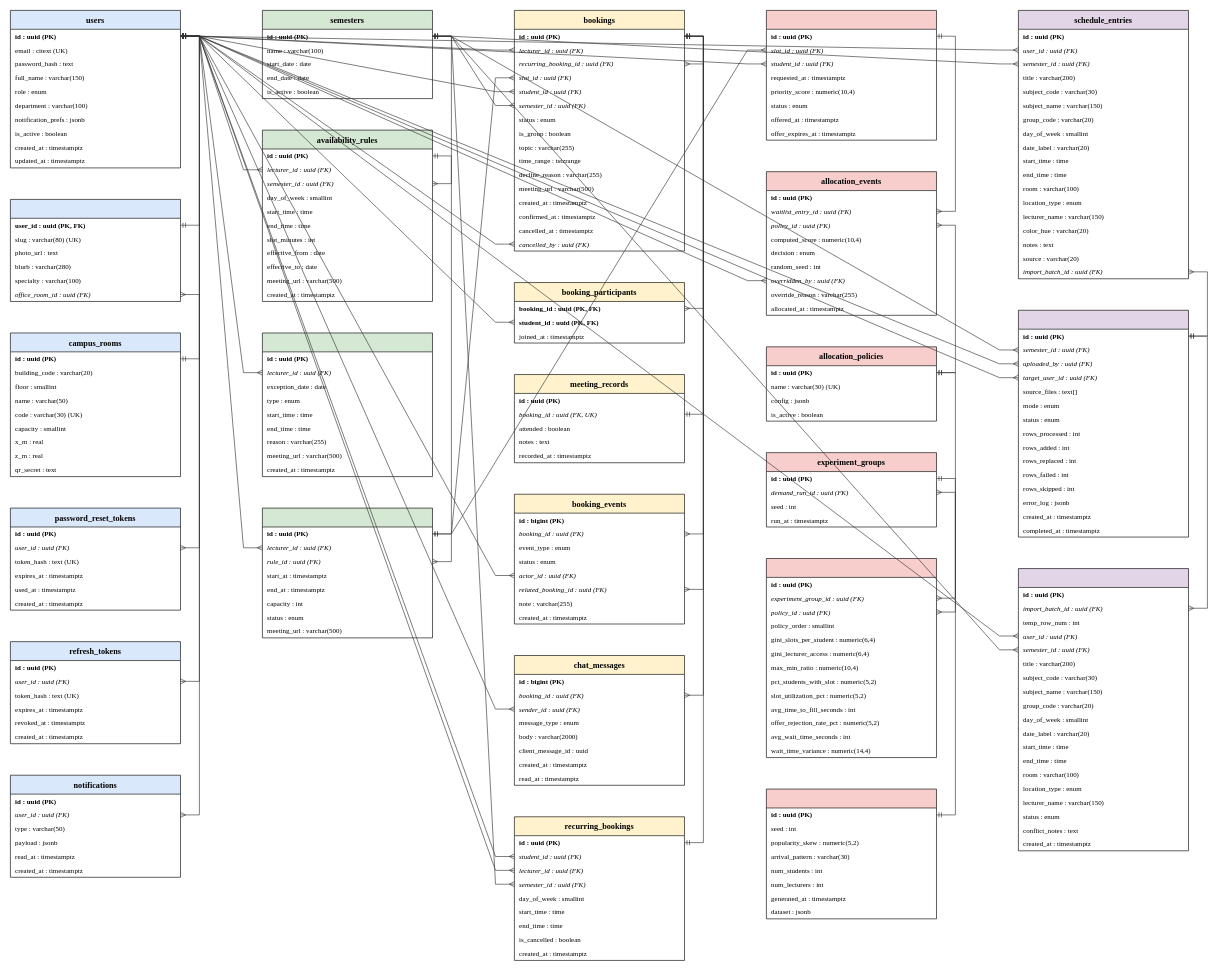
Some shapes in this 1218 by 971 pixel diagram are drawn without their labels. The shapes that lost their labels are listed below. From the top down, each one's box as (x1, y1, x2, y2) in pixels, then its label:
(766, 10, 936, 140): waitlist_entries
(10, 199, 180, 301): lecturer_profiles
(262, 332, 432, 477): availability_exceptions
(1018, 310, 1188, 537): schedule_imports
(262, 507, 432, 638): slots
(766, 558, 936, 758): experiments
(1018, 568, 1188, 851): schedule_import_staging
(766, 788, 936, 919): synthetic_demand_runs
